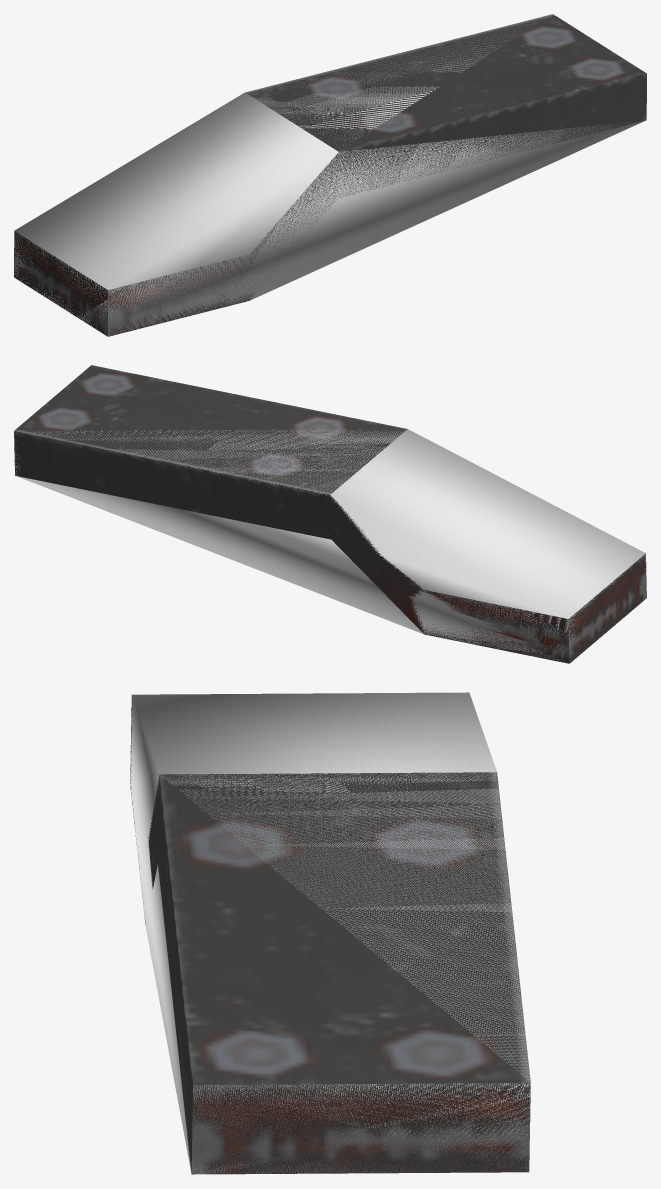
3 views of the same model, one above another, from view 1: azimuth 30°, elevation 25°; view 2: azimuth 150°, elevation 25°; view 3: azimuth 270°, elevation 25° (orthographic). The views are drawn at different scales.
Visible parts, largest first — view 1: weapon_machinegun_01_receiver_col, weapon_machinegun_01_receiver; view 2: weapon_machinegun_01_receiver_col, weapon_machinegun_01_receiver; view 3: weapon_machinegun_01_receiver, weapon_machinegun_01_receiver_col.
Part boxes in pixels (bbox=[...]): weapon_machinegun_01_receiver_col: bbox=[14, 15, 645, 336]; weapon_machinegun_01_receiver: bbox=[14, 14, 646, 336]; weapon_machinegun_01_receiver_col: bbox=[14, 429, 646, 663]; weapon_machinegun_01_receiver: bbox=[14, 365, 646, 663]; weapon_machinegun_01_receiver: bbox=[130, 696, 530, 1174]; weapon_machinegun_01_receiver_col: bbox=[130, 692, 530, 1174].
Size of the model in its own units: 0.2184 by 0.0468 by 0.0693.
Materials: 1 (1 with a texture image).
